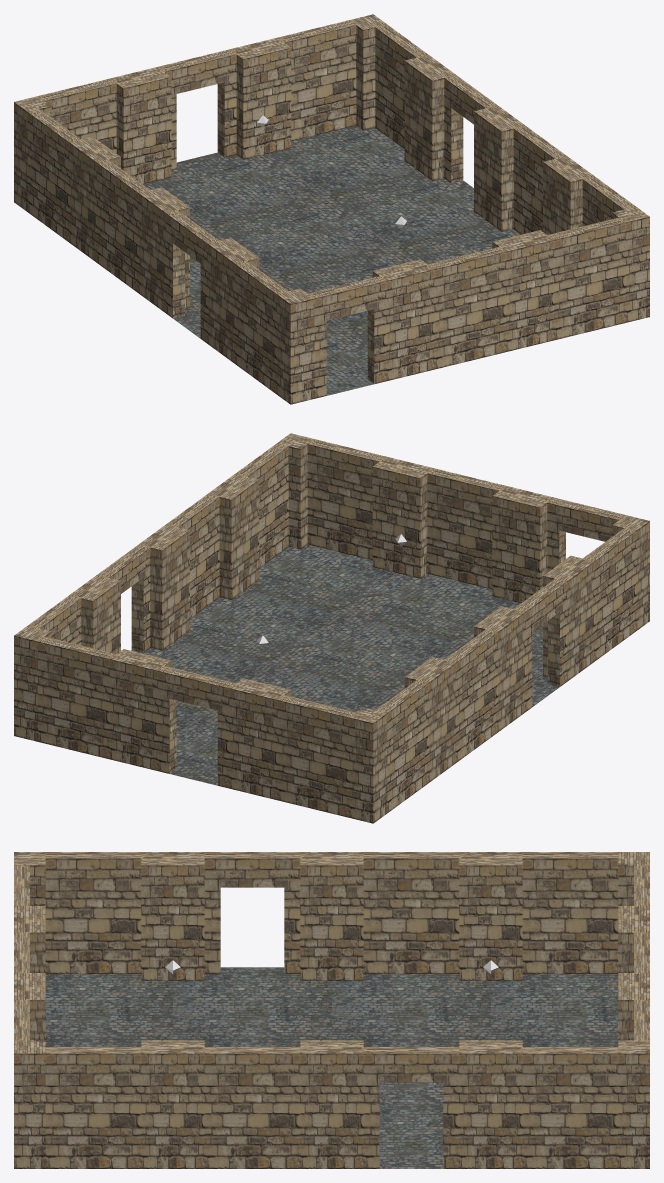
The model's file is 1_4doorConnector.fbx.
3 views of the same model, one above another, from view 1: azimuth 30°, elevation 25°; view 2: azimuth 150°, elevation 25°; view 3: azimuth 270°, elevation 25° (orthographic). The views are drawn at different scales.
Parts seen in each view (by area): view 1: Cube_2, Plane; view 2: Cube_2, Plane; view 3: Cube_2, Plane.
Boxes of the visible parts, bbox=[...] form: Cube_2: bbox=[14, 14, 649, 404]; Plane: bbox=[143, 125, 520, 395]; Cube_2: bbox=[14, 433, 649, 823]; Plane: bbox=[131, 544, 559, 785]; Cube_2: bbox=[14, 852, 649, 1168]; Plane: bbox=[45, 967, 618, 1168].
Bounding box in the file's own units: 30 × 8 × 40.
3 materials, 3 textured.
